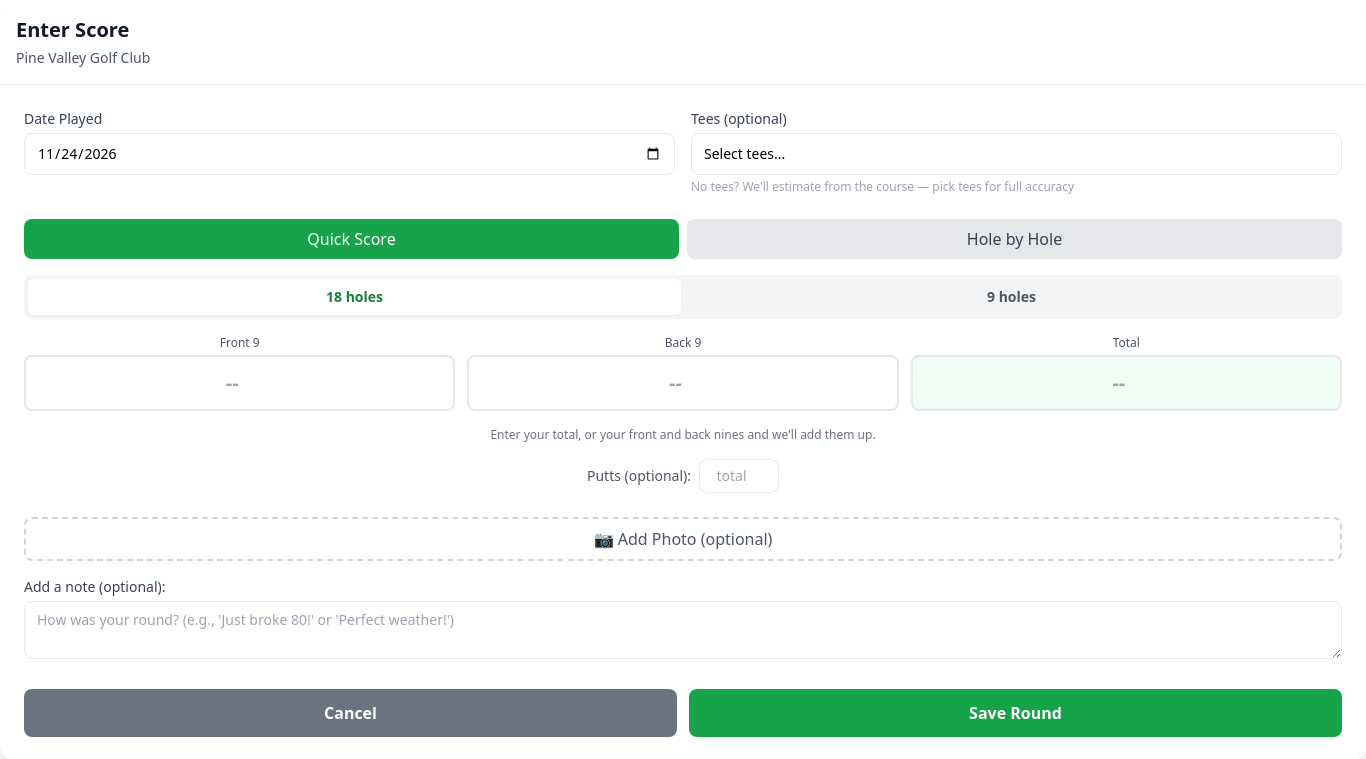
Scenario: blocks impossible scores with an inline message (hard limit)
Step 1. Type "201" into the number field labelled "Total" → (1126,383), box [911,355,1342,411]
(page scrolled)
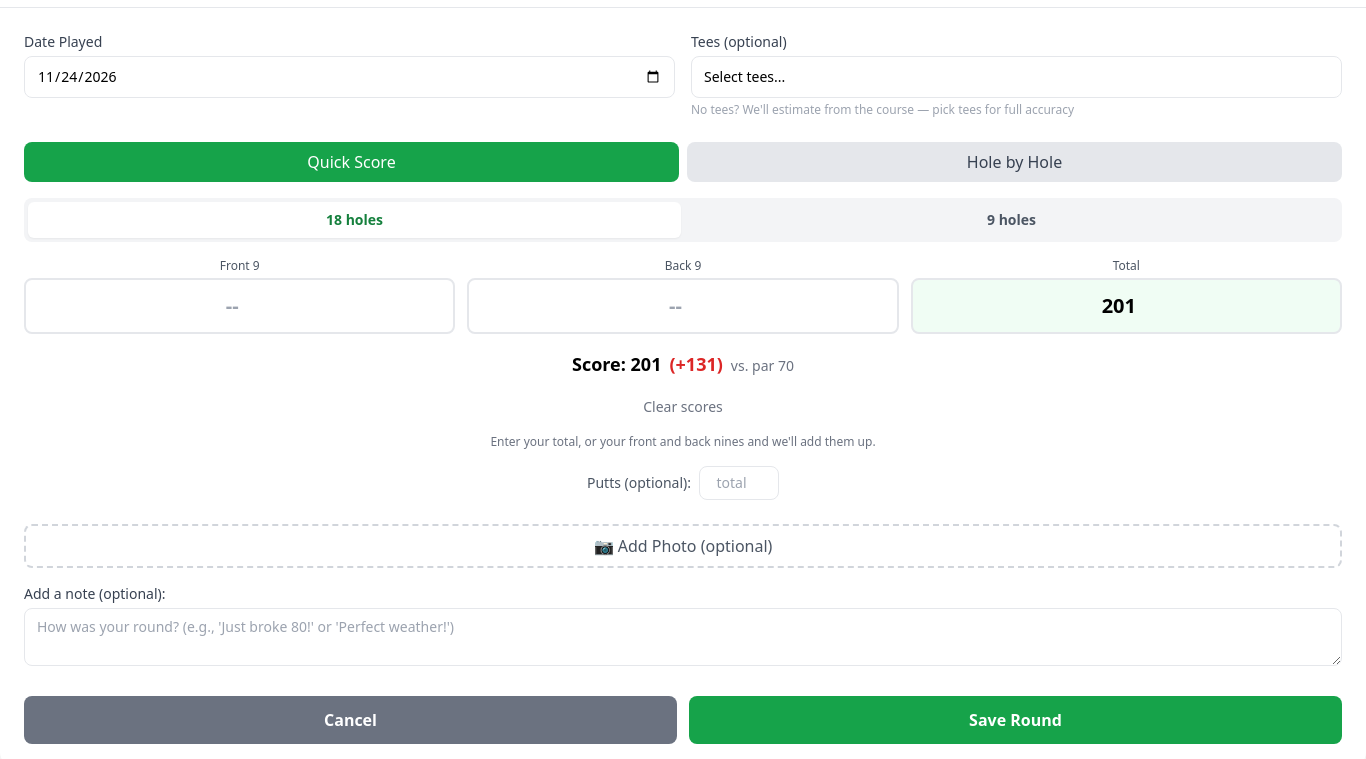
Step 2. Click the button "Save Round" → (1016,720), box [689,696,1342,744]
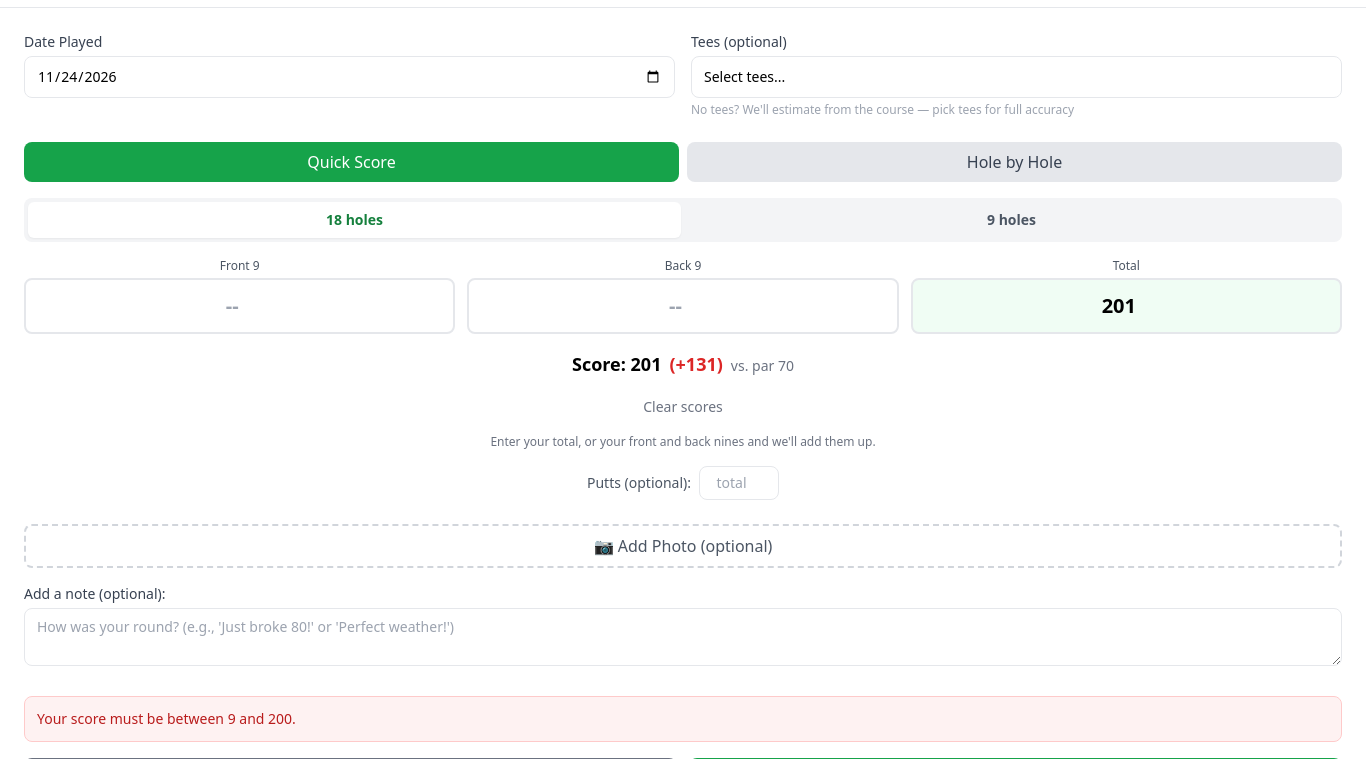
Now the message shows "between 9 and 200", box [37,709,296,728]
